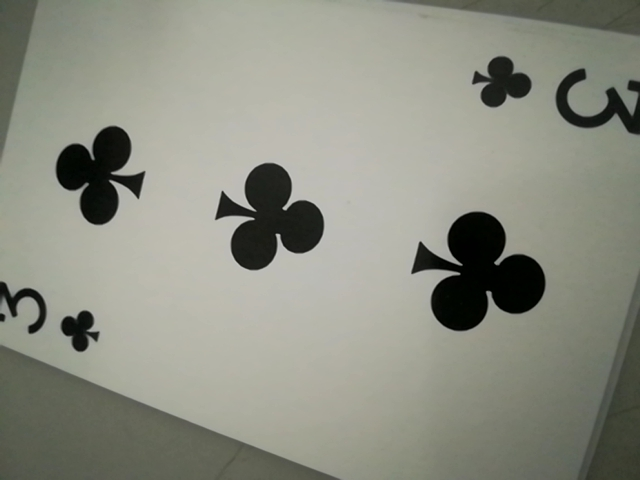mh 3: (467, 49, 640, 149), (0, 277, 106, 360)
